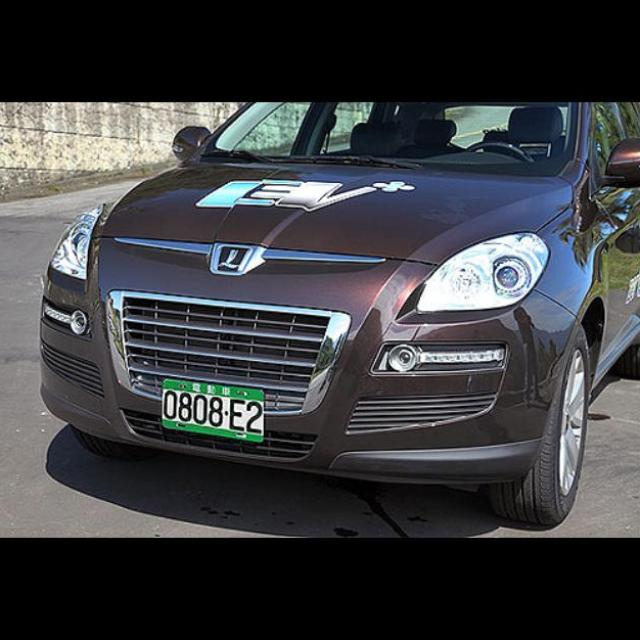license-plate: (159, 378, 271, 449)
